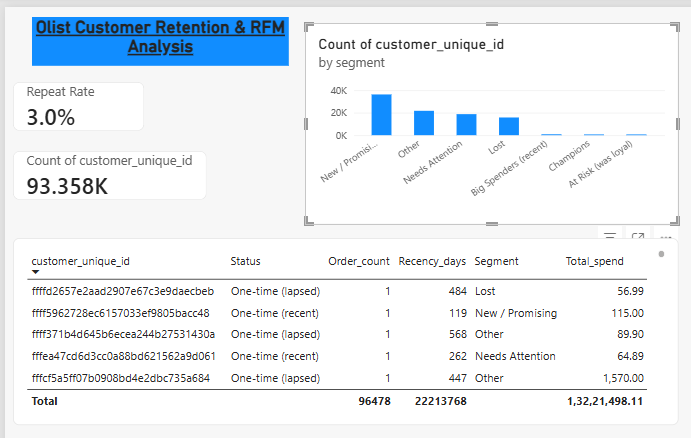

What the dashboard file says about the page in this screenshot:
{"tool":"powerbi","page":{"name":"Overview","canvas":[1920,1080],"ordinal":0},"visuals":[{"type":"cardVisual","fields":{"Data":["Count(customer_rfm_summary.customer_unique_id)"]},"box":[10,180,242.2,61.1],"z":0},{"type":"cardVisual","fields":{"Data":["customer_rfm_summary.Repeat Rate"]},"box":[10,93.3,164.4,61.1],"z":1},{"type":"clusteredColumnChart","fields":{"Category":["customer_rfm_summary.segment"],"Y":["Count(customer_rfm_summary.customer_unique_id)"]},"box":[375.6,20,466.7,252.2],"z":2},{"type":"tableEx","fields":{"Values":["customer_rfm_summary.customer_unique_id","customer_rfm_summary.status","Sum(customer_rfm_summary.order_count)","Sum(customer_rfm_summary.recency_days)","customer_rfm_summary.segment","Sum(customer_rfm_summary.total_spend)"]},"box":[10,288.9,832.2,234.4],"z":3},{"type":"textbox","title":"Olist Customer Retention & RFM Analysis","box":[33.3,12.2,321.1,61.1],"z":4}]}

Visuals, with their boxes on the page's 1920x1080 design canvas (x1, y1, x2, y2). These are canvas units, not pixel positions in the 691x438 screenshot, which may show the page scaled, cropped or inside an application window:
cardVisual - Count(customer_rfm_summary.customer_unique_id): 10 180 252 241
cardVisual - customer_rfm_summary.Repeat Rate: 10 93 174 154
clusteredColumnChart - customer_rfm_summary.segment x Count(customer_rfm_summary.customer_unique_id): 376 20 842 272
tableEx - customer_rfm_summary.customer_unique_id x customer_rfm_summary.status: 10 289 842 523
"Olist Customer Retention & RFM Analysis" textbox: 33 12 354 73
